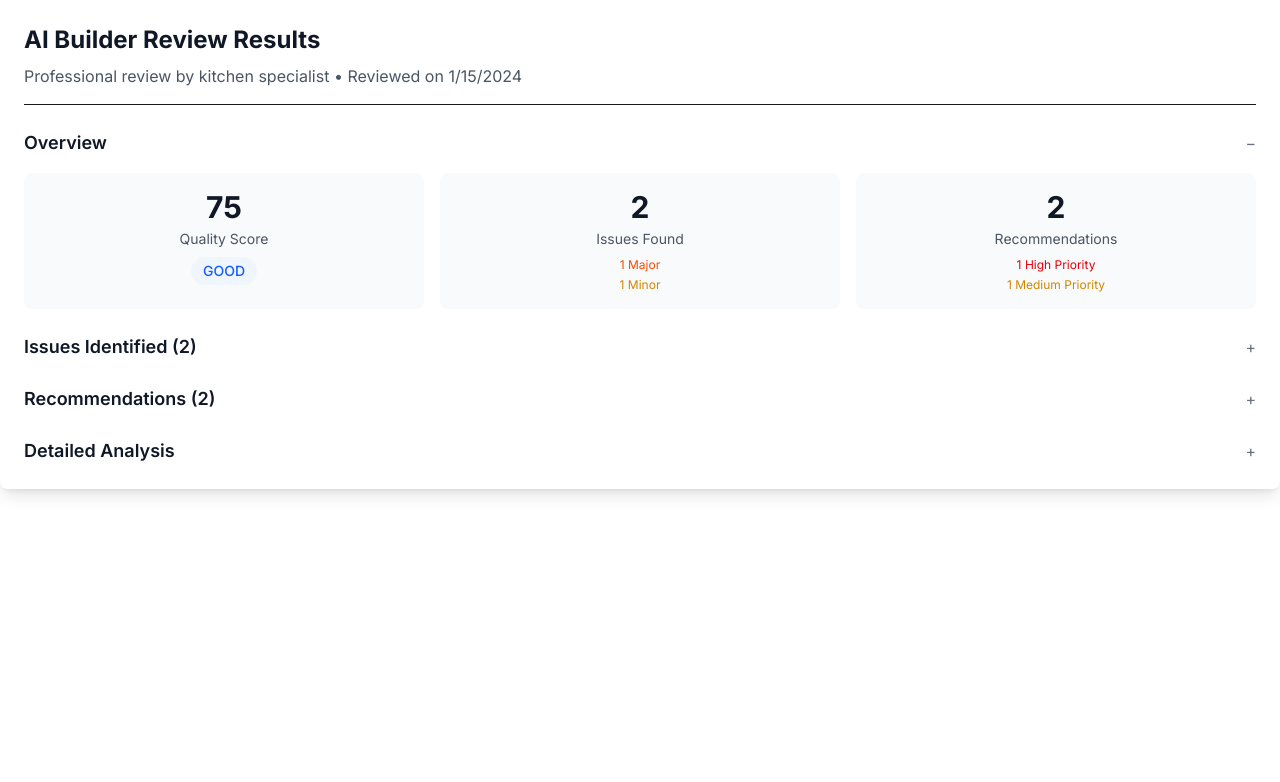
Scenario: BuilderReviewDisplay › should show loading state when applying recommendations
The width and height of the screenshot is (1280, 782).
# Expand recommendations section
Click the heading "Recommendations (2)": (120, 399) [24,385,215,413]
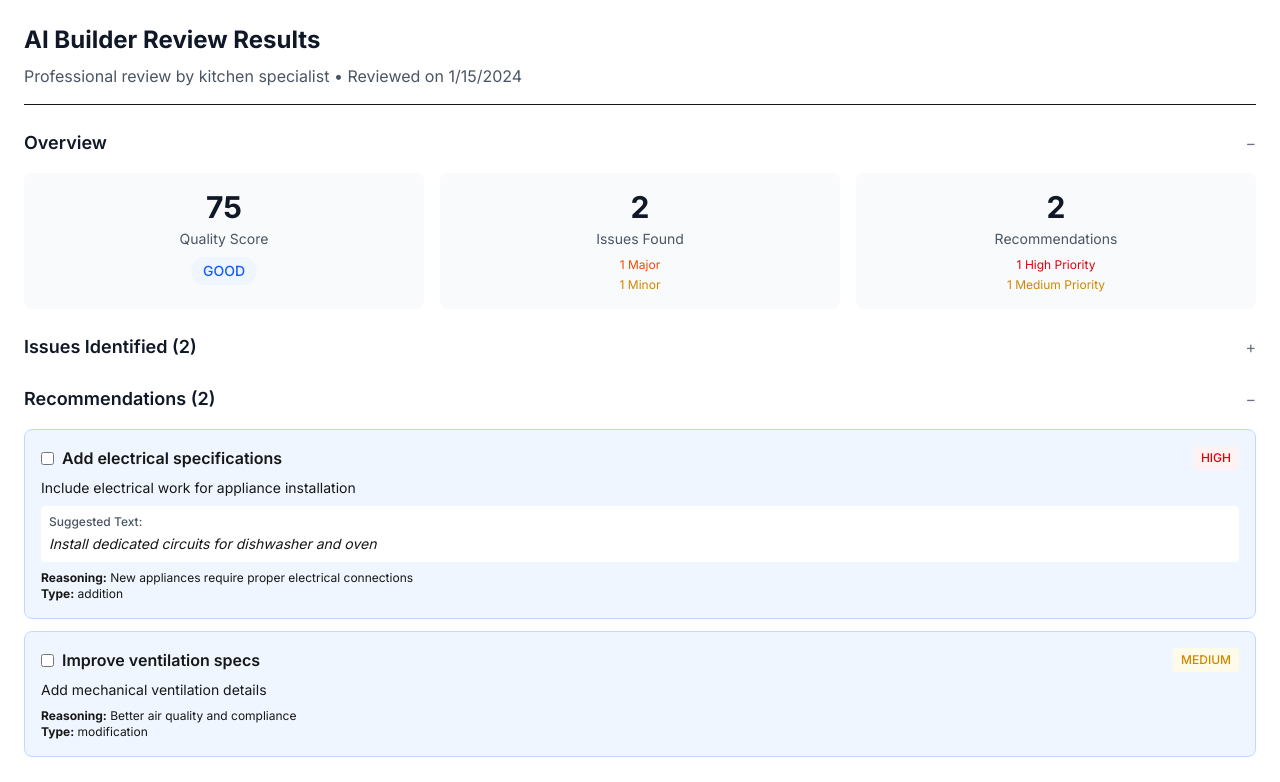
# Select a recommendation
Click the checkbox labelled "Add electrical specifications": (48, 458) [41,452,54,464]
(page scrolled)
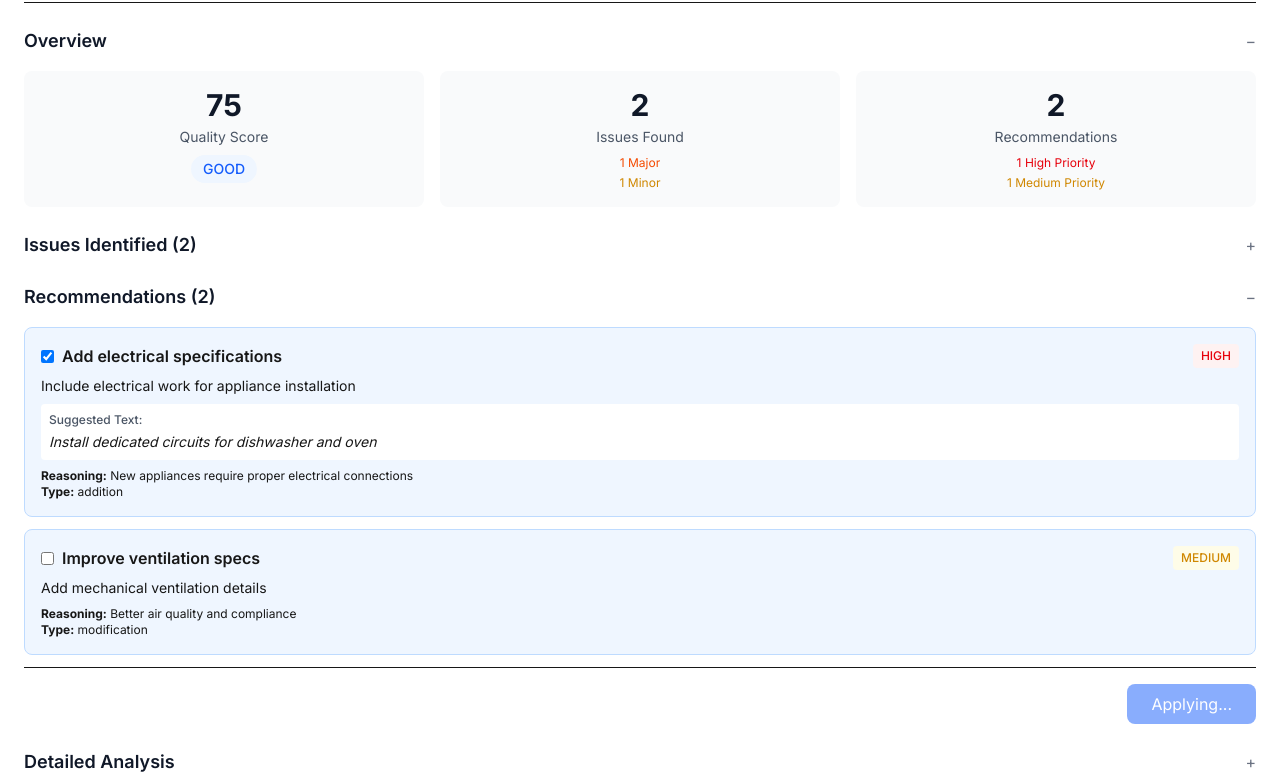
Check: the button "Applying..." is disabled, box [1128,684,1256,724]
